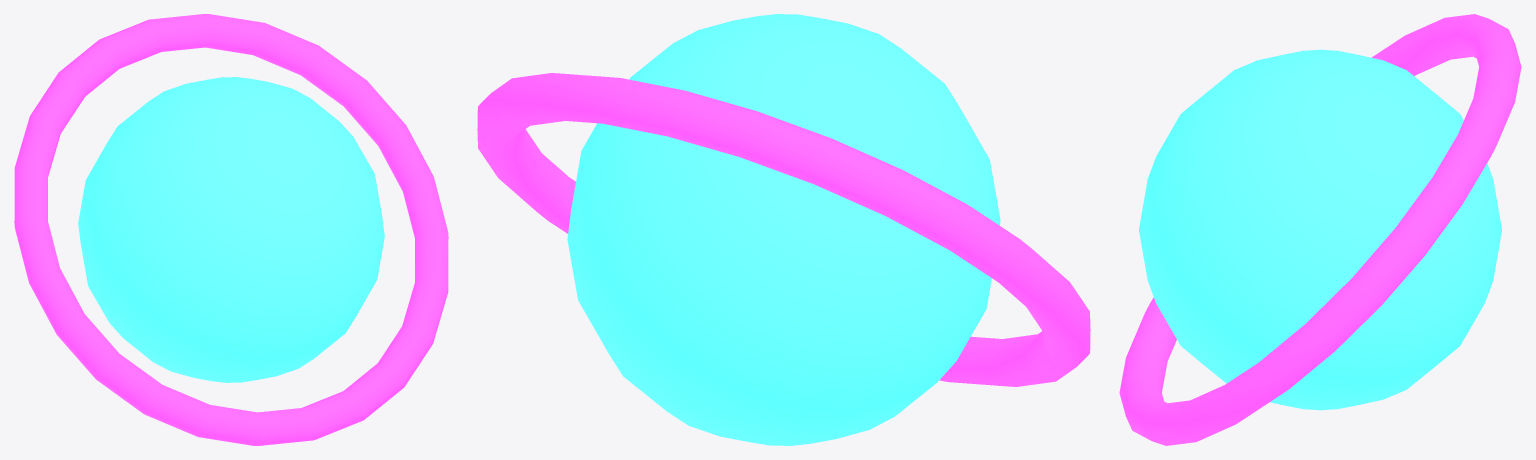
File: NitroSpirit.fbx
3 renders of one model, left to right at view 1: azimuth 30°, elevation 25°; view 2: azimuth 150°, elevation 25°; view 3: azimuth 270°, elevation 25°, orthographic. The views are drawn at different scales.
Visible parts, largest first — view 1: VFX_NitroSpirit; view 2: VFX_NitroSpirit; view 3: VFX_NitroSpirit.
Boxes of the visible parts, <box> form: VFX_NitroSpirit: <box>14,14,448,445</box>; VFX_NitroSpirit: <box>477,14,1090,445</box>; VFX_NitroSpirit: <box>1119,14,1521,445</box>.
Size of the model in its own units: 0.91 by 0.664 by 0.664.
